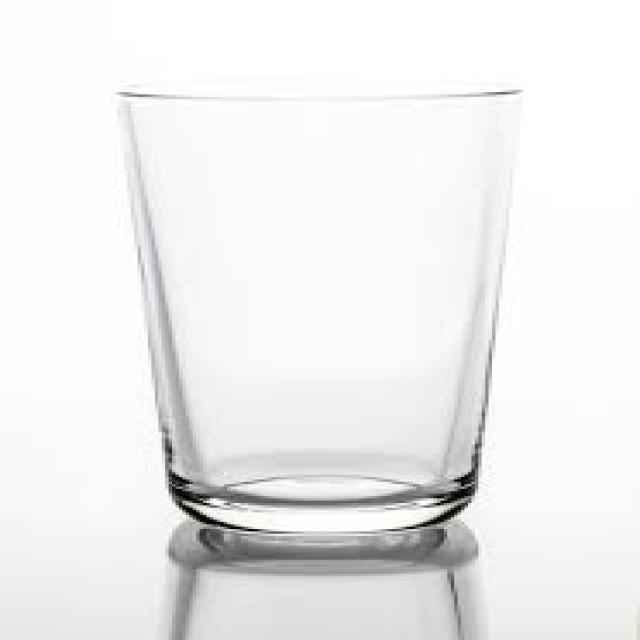glass: (114, 85, 516, 531)
